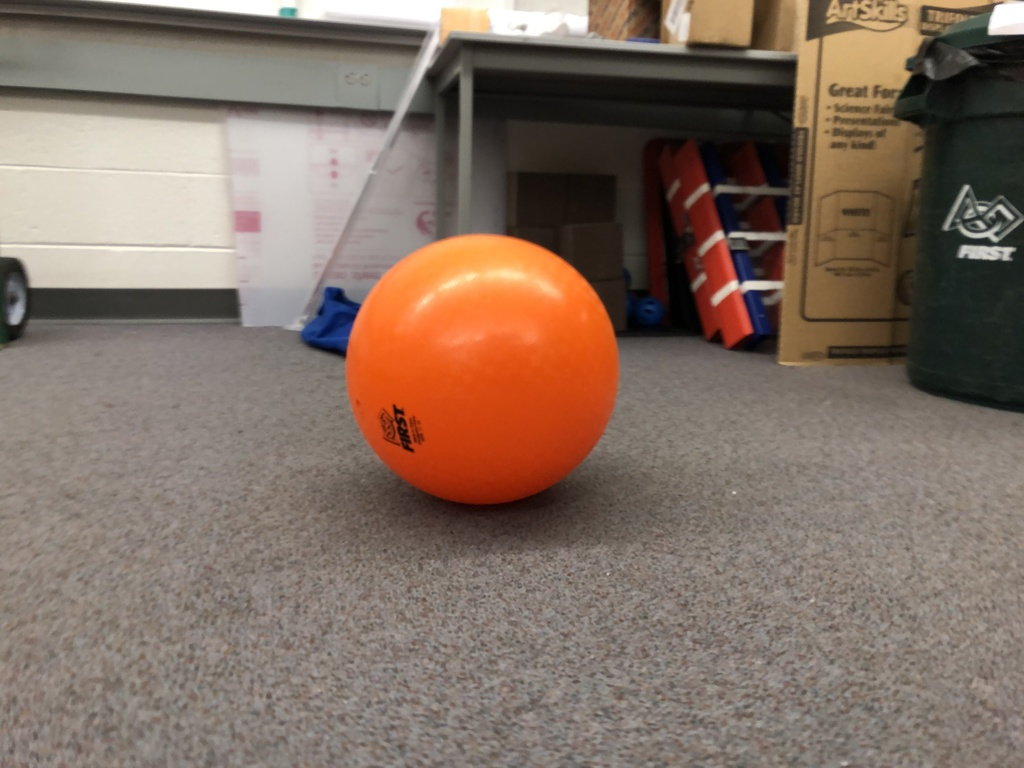cargo: (340, 220, 623, 515)
